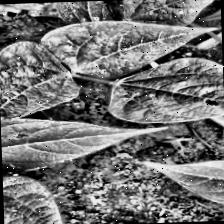Bean Rust: (40, 20, 222, 80), (0, 112, 168, 172), (103, 62, 224, 128), (0, 39, 80, 135), (2, 171, 71, 224), (119, 0, 221, 28)
